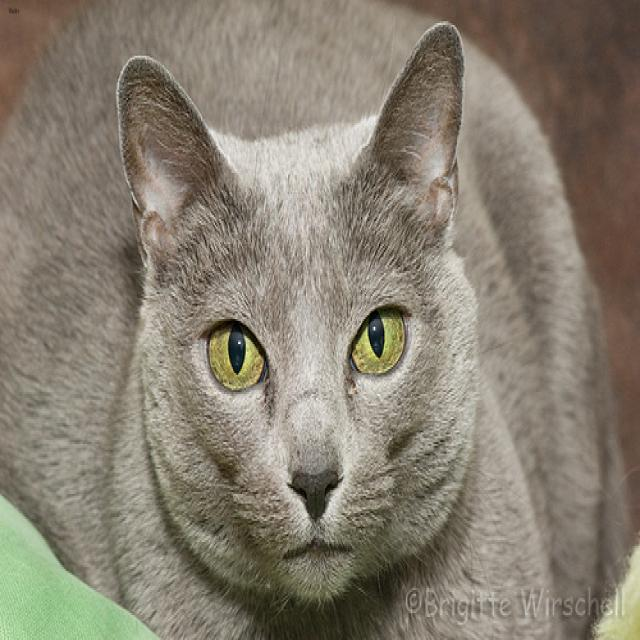cat: (115, 19, 461, 598)
